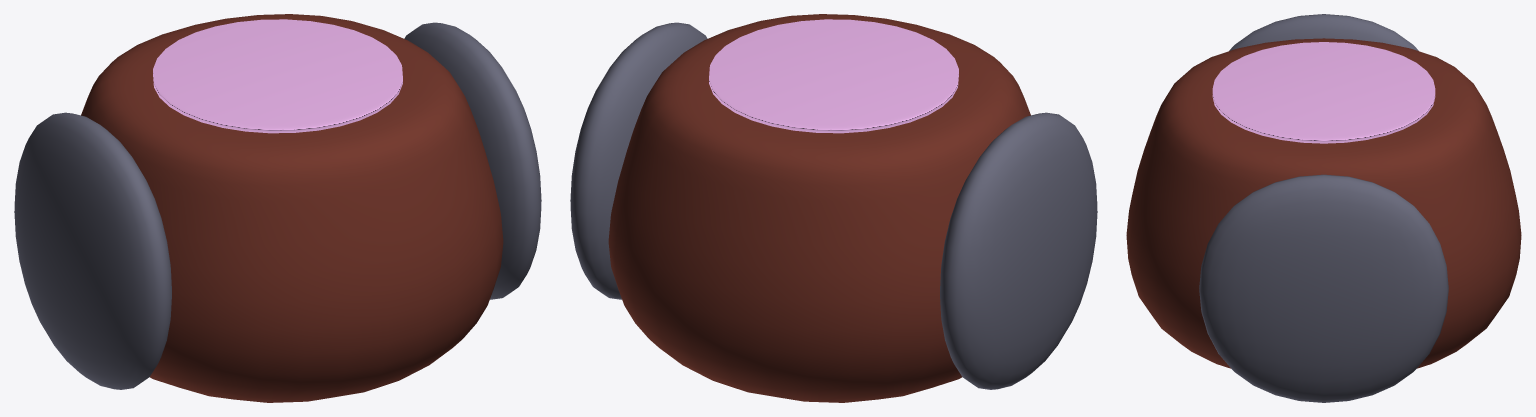
Rendered from house(petcam)_body.fbx.
3 renders of one model, left to right at view 1: azimuth 30°, elevation 25°; view 2: azimuth 150°, elevation 25°; view 3: azimuth 270°, elevation 25°, orthographic. The views are drawn at different scales.
Parts seen in each view (by area): view 1: Cube.001, Cube.002, Cylinder; view 2: Cube.001, Cube.002, Cylinder; view 3: Cube.001, Cube.002, Cylinder.
Part boxes in pixels (x1,y1,x2,y2): Cube.001: (81, 14, 503, 402); Cube.002: (14, 22, 541, 389); Cylinder: (153, 19, 402, 133); Cube.001: (608, 14, 1030, 402); Cube.002: (570, 22, 1097, 389); Cylinder: (709, 19, 958, 133); Cube.001: (1126, 38, 1521, 368); Cube.002: (1199, 14, 1448, 402); Cylinder: (1212, 42, 1435, 143).
Bounding box in the file's own units: 266 × 170 × 234.
